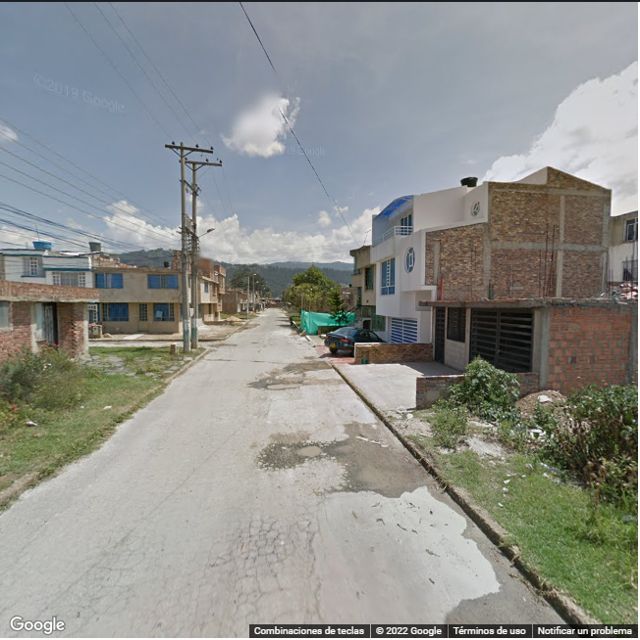D00: (30, 543, 108, 620), (302, 507, 324, 621), (8, 514, 45, 571), (119, 537, 152, 586)
D40: (205, 521, 293, 618)
